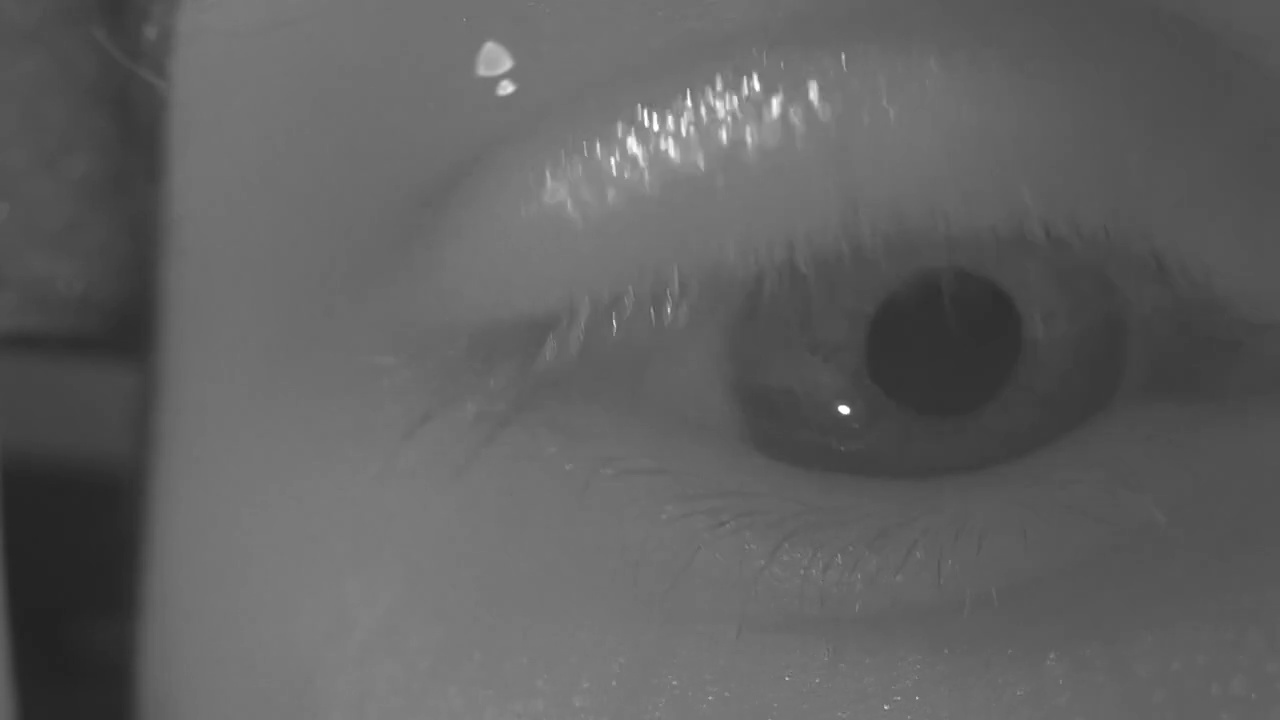pupil: (865, 270, 1022, 419)
